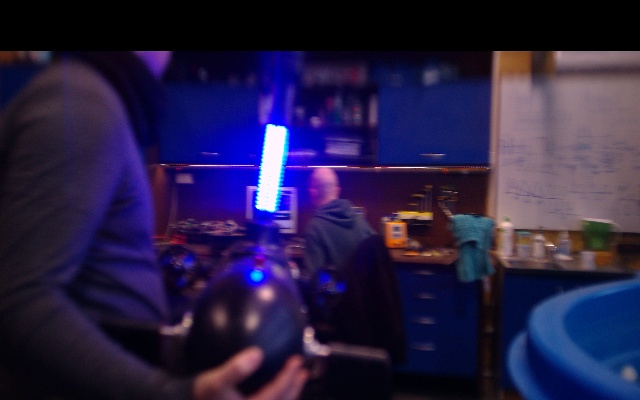blue: (254, 124, 289, 213)
